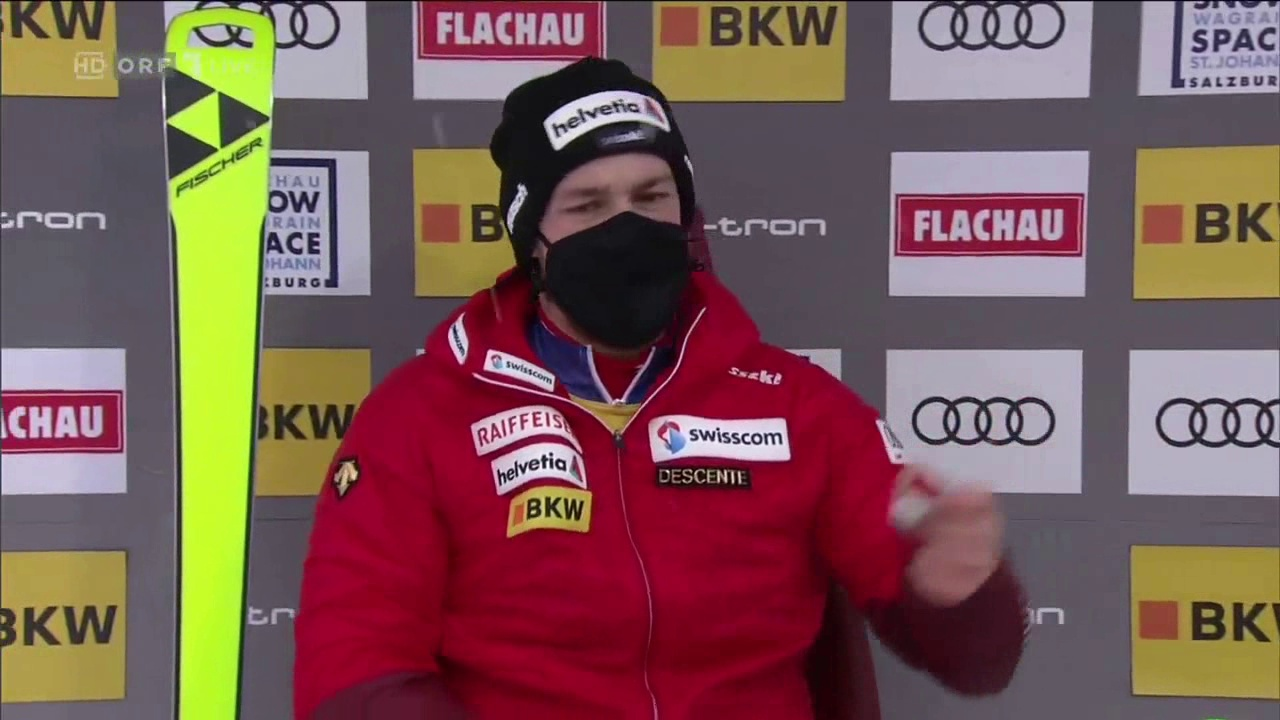BKW: (1124, 571, 1266, 676), (6, 568, 123, 674)
audi: (191, 2, 347, 62), (916, 1, 1070, 60), (910, 394, 1058, 454), (1155, 396, 1278, 455)
etron: (687, 213, 833, 244), (3, 205, 115, 237)
flachau: (893, 196, 1088, 259), (418, 1, 603, 62), (1, 391, 121, 453)
